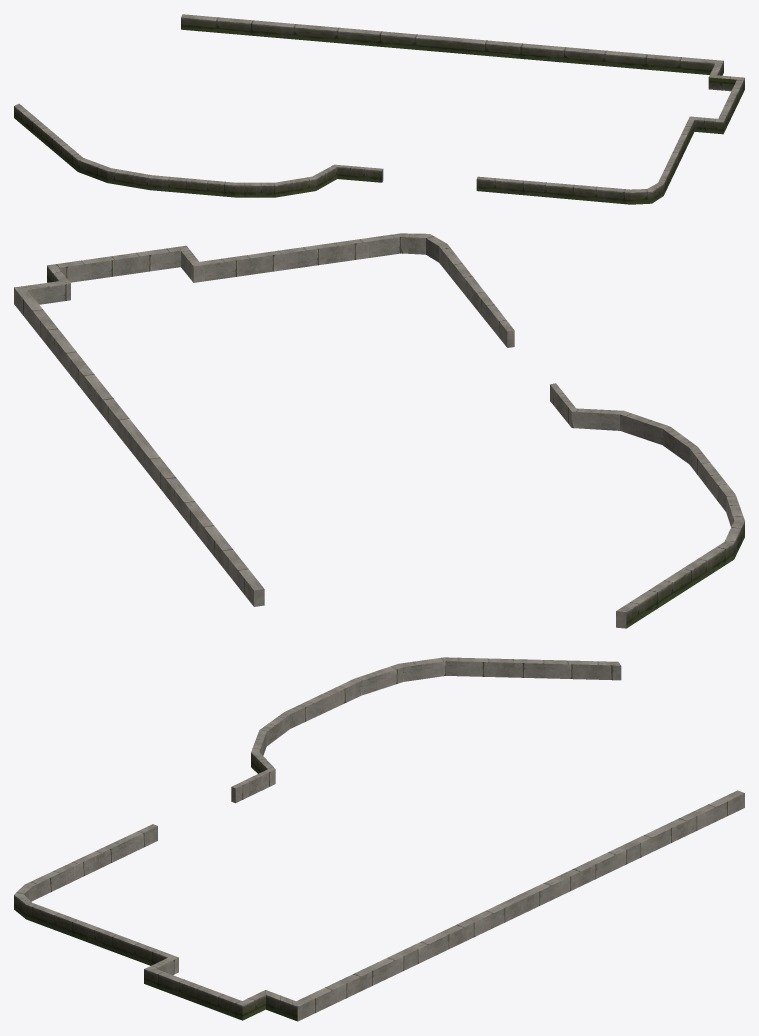
Rendered from xsz_diban_1.FBX.
3 renders of one model, top to bottom at view 1: azimuth 30°, elevation 25°; view 2: azimuth 150°, elevation 25°; view 3: azimuth 270°, elevation 25°, orthographic. The views are drawn at different scales.
Visible parts, largest first — view 1: xsz_diban_1; view 2: xsz_diban_1; view 3: xsz_diban_1.
Part boxes in pixels (bbox=[...]): xsz_diban_1: bbox=[14, 14, 744, 204]; xsz_diban_1: bbox=[14, 233, 744, 628]; xsz_diban_1: bbox=[14, 657, 744, 1021].
Bounding box in the file's own units: 1585 × 31.23 × 1401.
